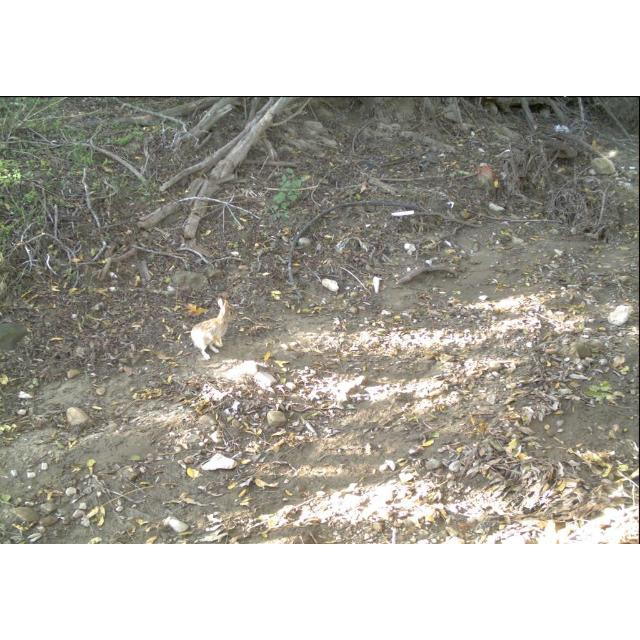animals: (190, 296, 240, 360)
